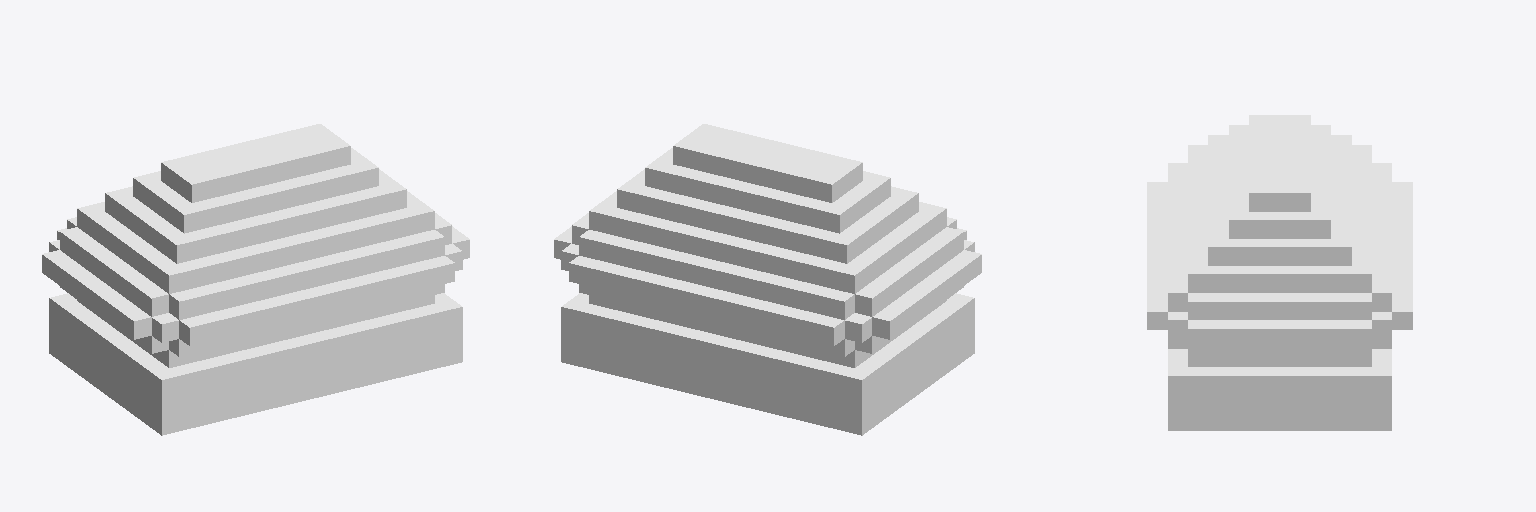
Rendered from gglive_bush.obj.
The picture shows the model from 3 angles: view 1: azimuth 30°, elevation 25°; view 2: azimuth 150°, elevation 25°; view 3: azimuth 270°, elevation 25°; orthographic projection.
Visible parts, largest first — view 1: gglive_bush; view 2: gglive_bush; view 3: gglive_bush.
Part boxes in pixels (x1,y1,x2,y2): gglive_bush: (42,124,469,435); gglive_bush: (554,124,981,435); gglive_bush: (1147,115,1412,430).
Bounding box in the file's own units: 19 × 11 × 13.